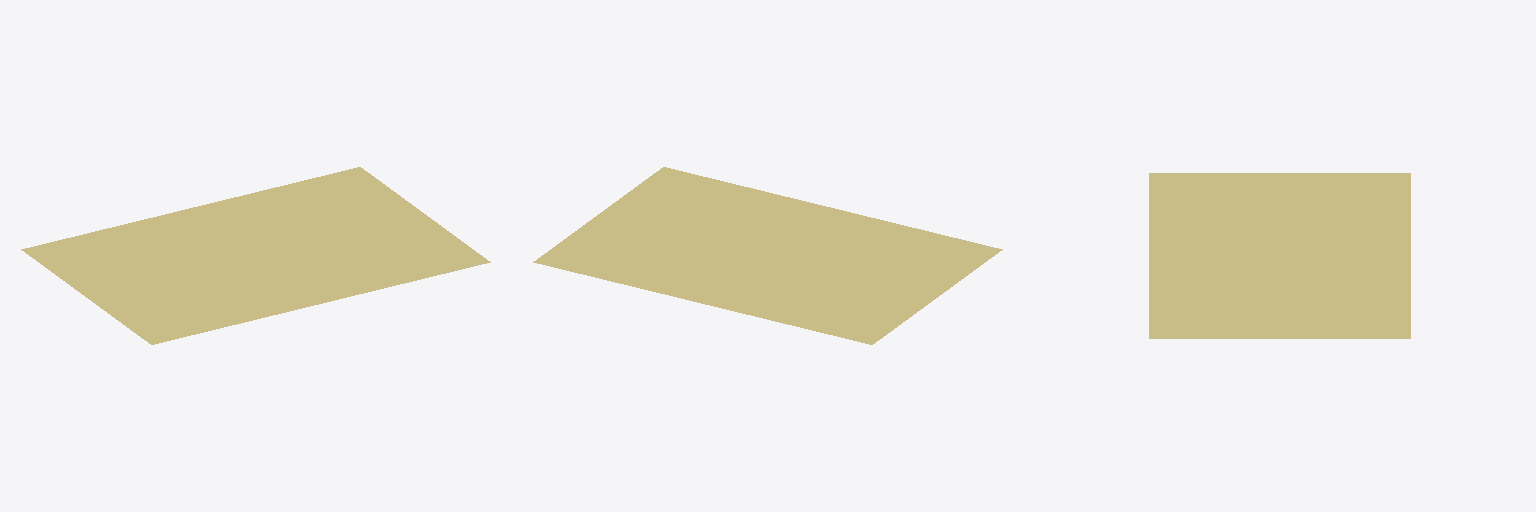
The model's file is Card.obj.
3 renders of one model, left to right at view 1: azimuth 30°, elevation 25°; view 2: azimuth 150°, elevation 25°; view 3: azimuth 270°, elevation 25°, orthographic.
Visible parts, largest first — view 1: Card; view 2: Card; view 3: Card.
Part boxes in pixels (x1,y1,x2,y2): Card: (21,167,490,344); Card: (533,167,1002,344); Card: (1149,173,1410,338).
Size of the model in its own units: 12 by 0 by 8.